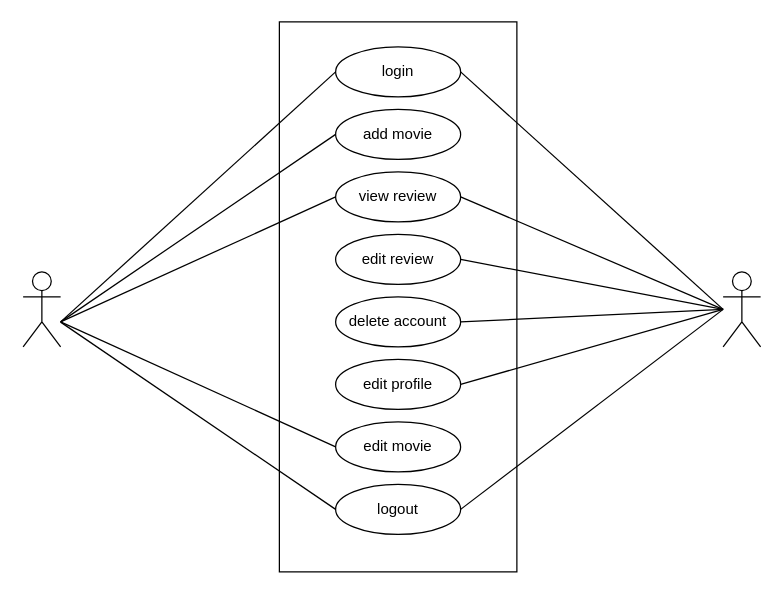
Image size: 783x594. Some labels were removed from this diagram. Here are the shapes that lost their labels. From the top down, the centre of each, then its label:
point 41,309: admin
point 741,309: user
